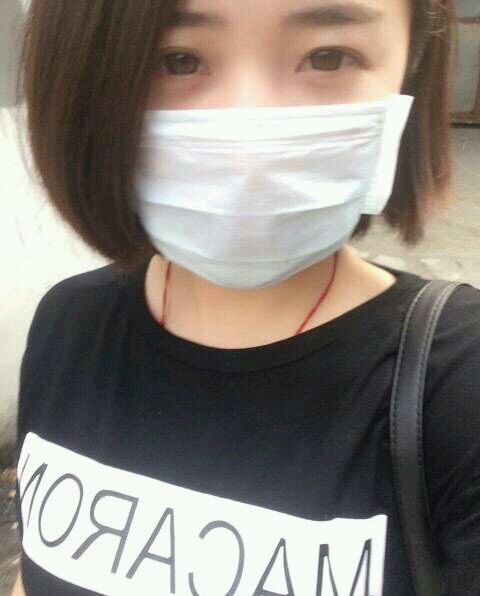face_mask: (132, 1, 401, 288)
